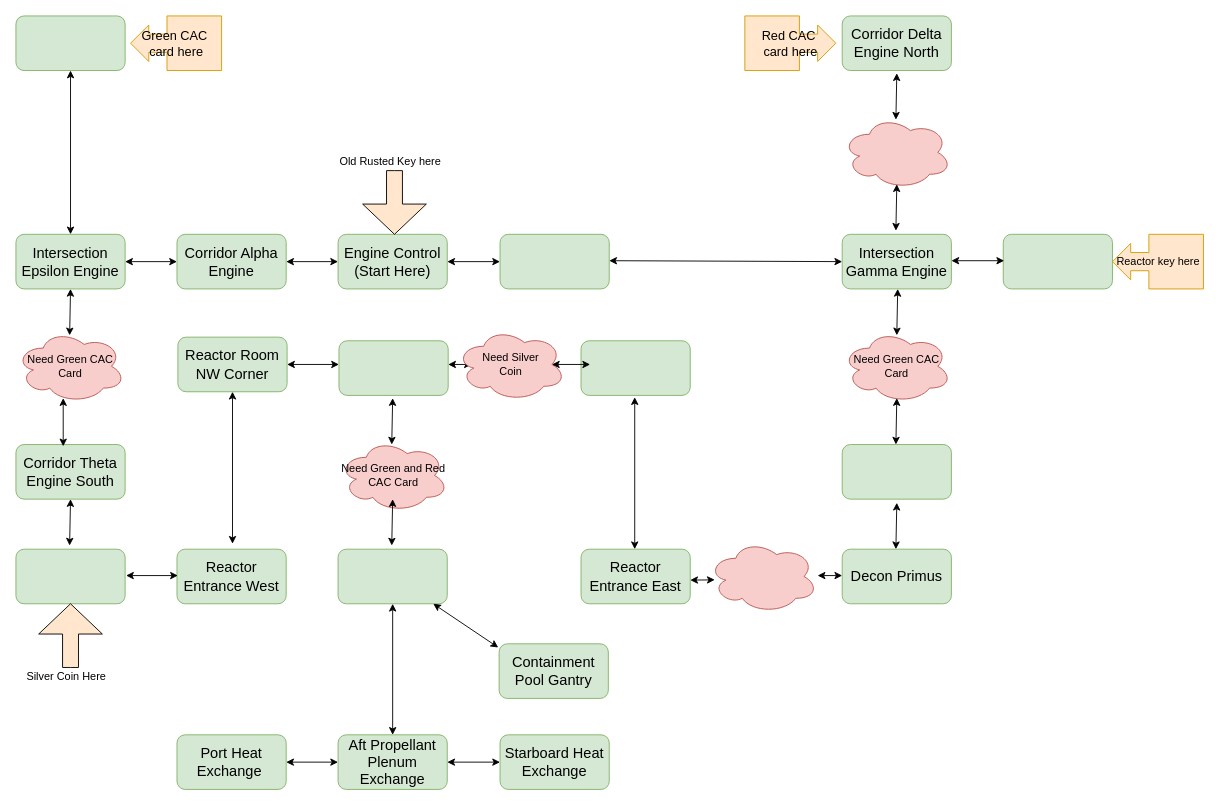
Image size: 1219x805. Some labels were removed from this diagram. The shapes that lost their labels are listed below. From the top down, each one's centre as x and y in pixels, then its label:
the point at 70,43: Corridor Theta Engine North
the point at 896,152: Need Old Rusted key
the point at 554,261: Corridor Bravo Engine
the point at 1057,261: Equipment Locker
the point at 393,367: Nozzle Array
the point at 635,367: Reactor Room NE Corner
the point at 896,471: Corridor Delta Engine South
the point at 70,576: Decon Secundus
the point at 392,576: Reactor Floor
the point at 763,576: Need Reactor key
